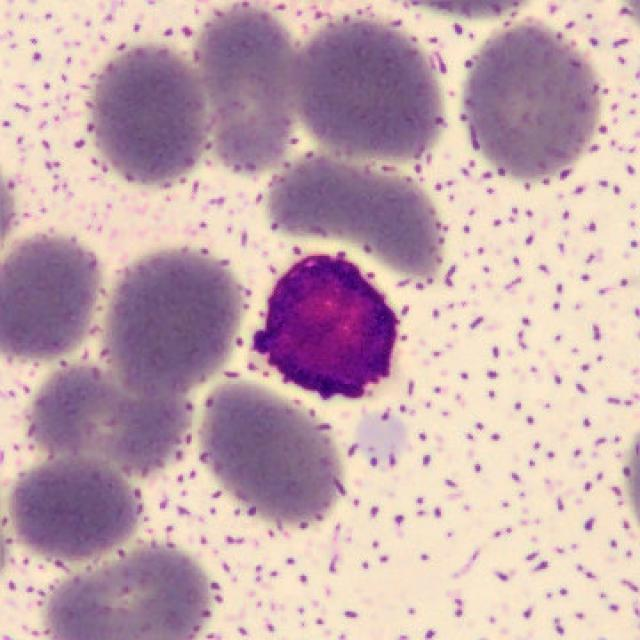Restos celulares: (251, 254, 402, 402)
